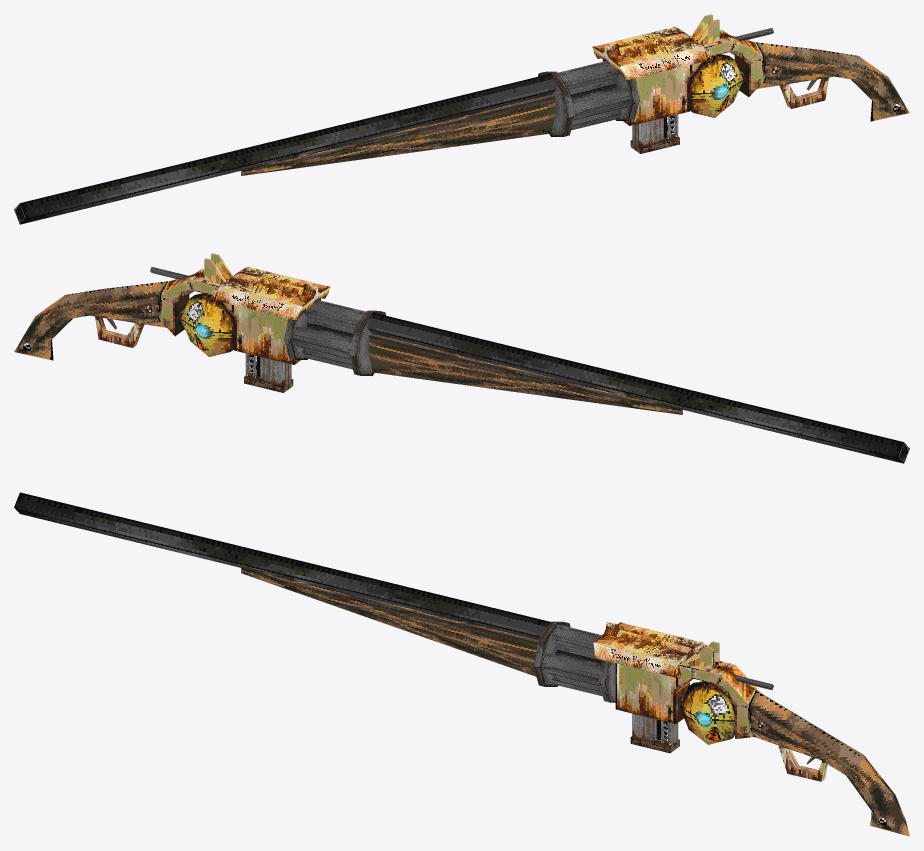
The model's file is sochniyesoskicom.gltf.
3 views of the same model, one above another, from view 1: azimuth 30°, elevation 25°; view 2: azimuth 150°, elevation 25°; view 3: azimuth 330°, elevation 25° (orthographic).
Visible parts, largest first — view 1: MainFrame, Barrel, Barrel Roof, Mag; view 2: MainFrame, Barrel, Barrel Roof, Mag; view 3: MainFrame, Barrel, Barrel Roof, Mag.
Part boxes in pixels (bbox=[...]): MainFrame: bbox=[14, 14, 909, 224]; Barrel: bbox=[538, 60, 639, 136]; Barrel Roof: bbox=[592, 26, 712, 79]; Mag: bbox=[630, 114, 679, 153]; MainFrame: bbox=[14, 253, 909, 463]; Barrel: bbox=[284, 299, 385, 375]; Barrel Roof: bbox=[209, 266, 330, 319]; Mag: bbox=[244, 353, 293, 392]; MainFrame: bbox=[14, 492, 909, 836]; Barrel: bbox=[533, 621, 615, 702]; Barrel Roof: bbox=[593, 622, 707, 678]; Mag: bbox=[630, 713, 679, 753].
Bounding box in the file's own units: 6.37 × 0.9794 × 0.4507.
Materials: 6 (6 with a texture image).
